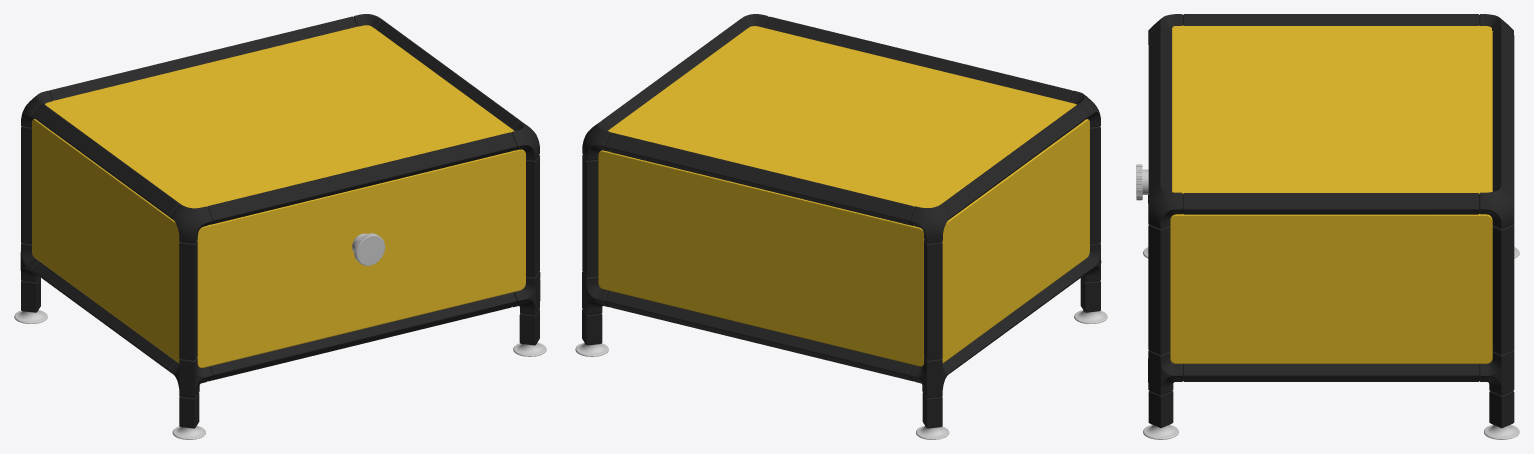
3 renders of one model, left to right at view 1: azimuth 30°, elevation 25°; view 2: azimuth 150°, elevation 25°; view 3: azimuth 270°, elevation 25°, orthographic. The views are drawn at different scales.
Parts seen in each view (by area): view 1: 420x329x154; view 2: 420x329x154; view 3: 420x329x154.
Boxes of the visible parts, x1,y1,x2,y2 form: 420x329x154: (14,14,546,439); 420x329x154: (575,14,1107,439); 420x329x154: (1136,14,1519,439).
Bounding box in the file's own units: 0.5099 × 0.2933 × 0.4257.
